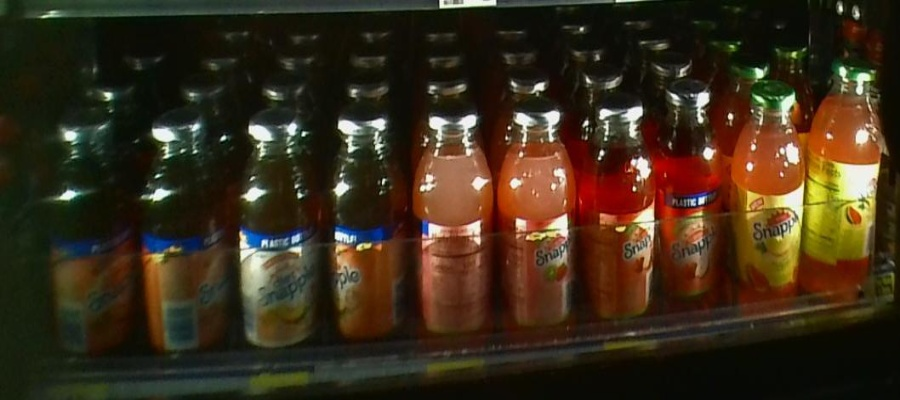bottle: (44, 87, 133, 373), (230, 96, 320, 370), (137, 112, 228, 374), (322, 95, 409, 362), (499, 76, 578, 370), (412, 100, 495, 375), (810, 53, 885, 317), (584, 95, 655, 356), (734, 80, 809, 324), (656, 81, 729, 319)
